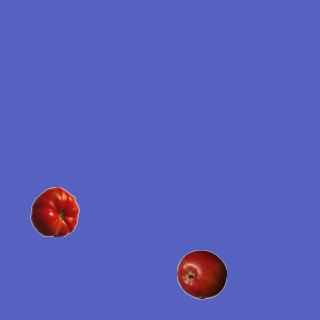Apple Braeburn: (176, 249, 226, 299)
Tomato 3: (29, 186, 79, 236)
